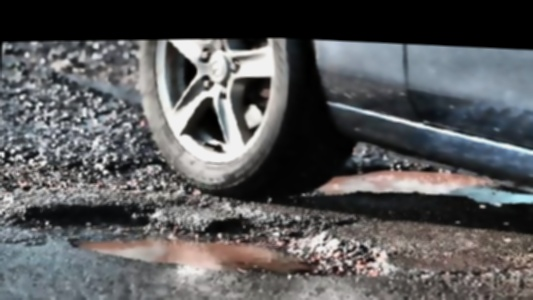pothole: (9, 191, 399, 289)
